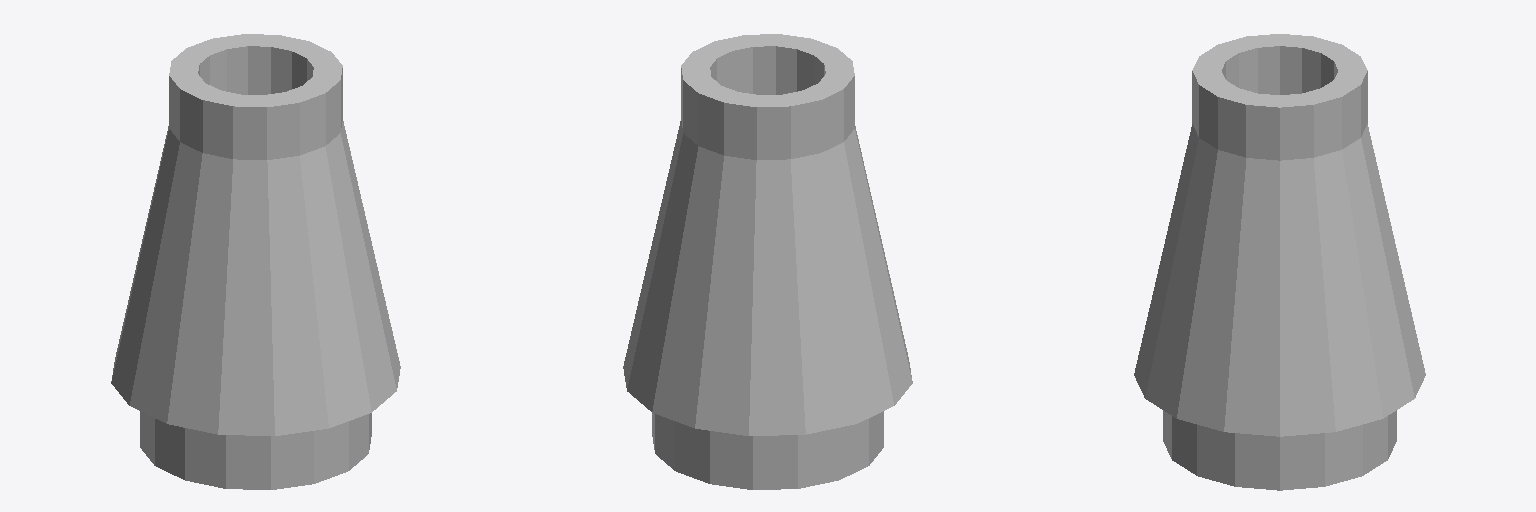
File: Round_Nose_cone_small_1x1.obj
3 renders of one model, left to right at view 1: azimuth 30°, elevation 25°; view 2: azimuth 150°, elevation 25°; view 3: azimuth 270°, elevation 25°, orthographic.
Parts seen in each view (by area): view 1: 4-4con4_1.4-4con4_1n_4-4con4_1, 4-4con3_1.4-4con3_1n_4-4con3_1, 4-4cyli_1.4-4cyli_1n_4-4cyli_1.004, 4-4cyli_6.4-4cyli_6n_4-4cyli_6.002, 4-4ring2_1.4-4ring2_1n_4-4ring2_1.001, 4-4cyli_5.4-4cyli_5n_4-4cyli_5.003; view 2: 4-4con4_1.4-4con4_1n_4-4con4_1, 4-4con3_1.4-4con3_1n_4-4con3_1, 4-4cyli_1.4-4cyli_1n_4-4cyli_1.004, 4-4cyli_6.4-4cyli_6n_4-4cyli_6.002, 4-4ring2_1.4-4ring2_1n_4-4ring2_1.001, 4-4cyli_5.4-4cyli_5n_4-4cyli_5.003; view 3: 4-4con4_1.4-4con4_1n_4-4con4_1, 4-4con3_1.4-4con3_1n_4-4con3_1, 4-4cyli_1.4-4cyli_1n_4-4cyli_1.004, 4-4cyli_6.4-4cyli_6n_4-4cyli_6.002, 4-4ring2_1.4-4ring2_1n_4-4ring2_1.001, 4-4cyli_5.4-4cyli_5n_4-4cyli_5.003.
Boxes of the visible parts, box(x1,y1,x2,y2) form: 4-4con4_1.4-4con4_1n_4-4con4_1: box(111, 239, 400, 435); 4-4con3_1.4-4con3_1n_4-4con3_1: box(140, 121, 371, 297); 4-4cyli_1.4-4cyli_1n_4-4cyli_1.004: box(140, 411, 371, 489); 4-4cyli_6.4-4cyli_6n_4-4cyli_6.002: box(169, 68, 342, 159); 4-4ring2_1.4-4ring2_1n_4-4ring2_1.001: box(169, 34, 342, 106); 4-4cyli_5.4-4cyli_5n_4-4cyli_5.003: box(198, 46, 313, 94); 4-4con4_1.4-4con4_1n_4-4con4_1: box(623, 239, 912, 435); 4-4con3_1.4-4con3_1n_4-4con3_1: box(652, 121, 883, 297); 4-4cyli_1.4-4cyli_1n_4-4cyli_1.004: box(652, 411, 883, 489); 4-4cyli_6.4-4cyli_6n_4-4cyli_6.002: box(681, 68, 854, 159); 4-4ring2_1.4-4ring2_1n_4-4ring2_1.001: box(681, 34, 854, 106); 4-4cyli_5.4-4cyli_5n_4-4cyli_5.003: box(710, 46, 825, 94); 4-4con4_1.4-4con4_1n_4-4con4_1: box(1134, 250, 1425, 436); 4-4con3_1.4-4con3_1n_4-4con3_1: box(1163, 124, 1396, 298); 4-4cyli_1.4-4cyli_1n_4-4cyli_1.004: box(1163, 410, 1396, 490); 4-4cyli_6.4-4cyli_6n_4-4cyli_6.002: box(1192, 71, 1367, 160); 4-4ring2_1.4-4ring2_1n_4-4ring2_1.001: box(1192, 34, 1367, 107); 4-4cyli_5.4-4cyli_5n_4-4cyli_5.003: box(1222, 46, 1337, 94).
Bounding box in the file's own units: 2 × 2.8 × 2.